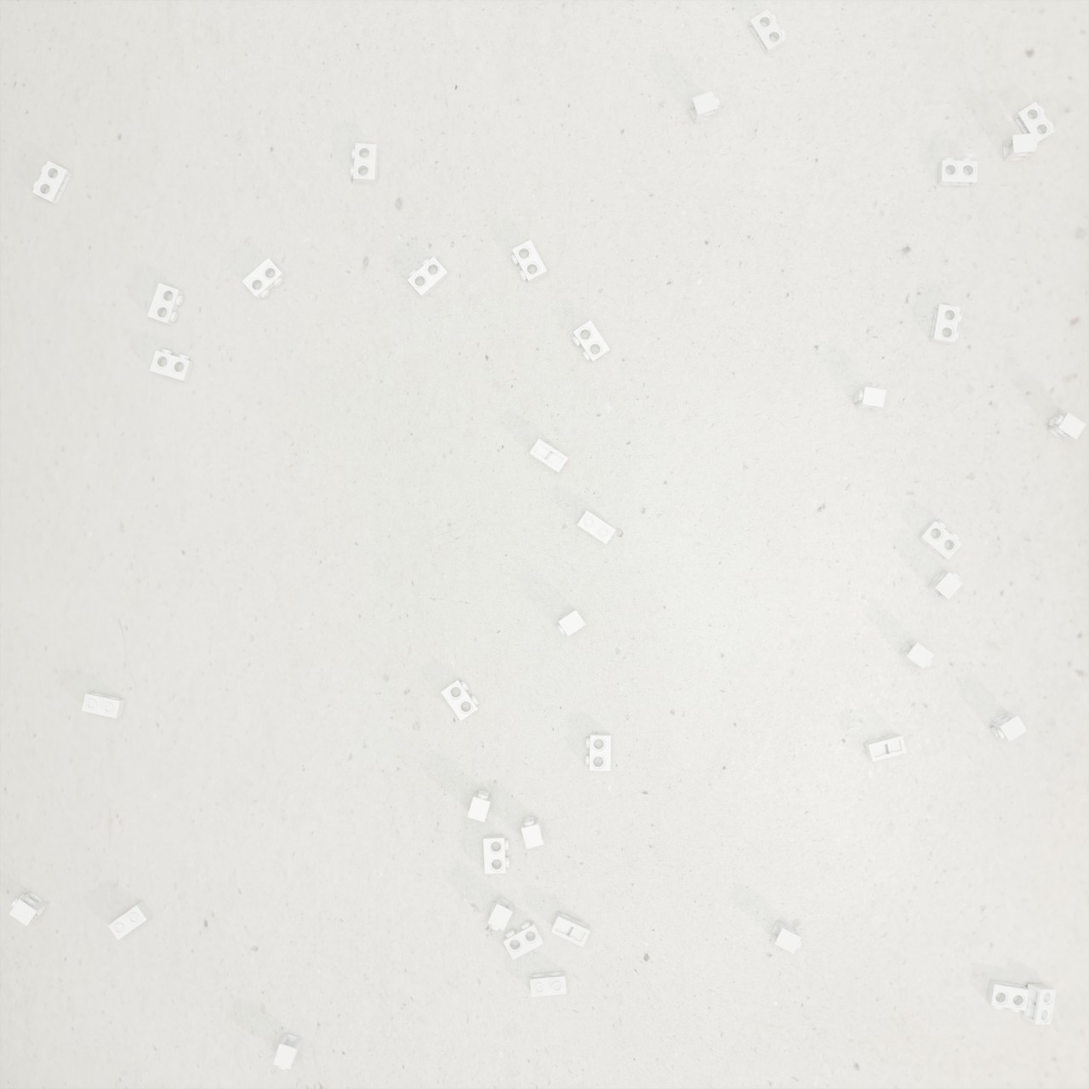lego: (1013, 101, 1055, 147), (748, 9, 787, 56), (242, 258, 285, 300), (407, 256, 449, 299), (32, 161, 72, 206), (108, 900, 152, 940), (917, 521, 962, 560), (440, 679, 479, 721), (572, 320, 610, 363), (511, 239, 547, 284), (503, 921, 544, 960), (147, 283, 184, 326), (150, 349, 194, 383), (986, 979, 1029, 1012), (529, 438, 568, 474), (551, 911, 590, 947), (576, 510, 616, 545), (9, 891, 48, 926), (1023, 984, 1056, 1025), (930, 304, 962, 344), (864, 733, 907, 762), (81, 692, 126, 718), (937, 158, 978, 186), (351, 143, 379, 184), (989, 712, 1027, 742), (1047, 413, 1086, 442), (769, 920, 802, 954), (273, 1032, 302, 1070), (926, 571, 963, 600), (898, 640, 935, 669), (689, 91, 720, 125), (483, 835, 510, 874), (1002, 133, 1037, 162), (530, 970, 567, 997), (585, 733, 611, 771), (487, 896, 514, 931), (557, 608, 586, 637), (853, 386, 886, 411), (467, 790, 492, 822), (521, 816, 544, 849)
